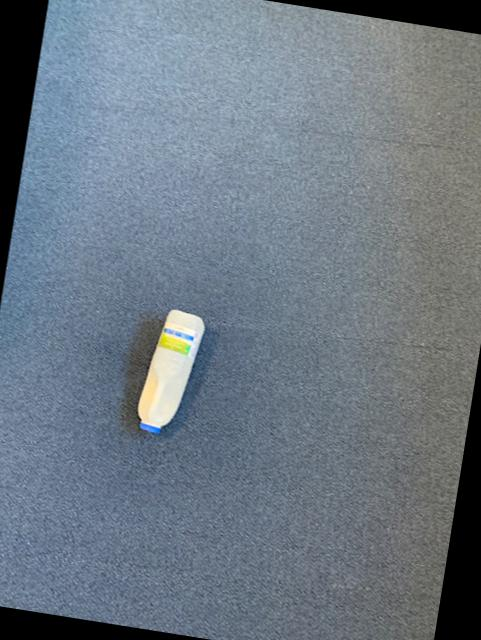plastic: (136, 308, 202, 430)
